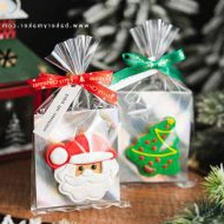snack: (23, 29, 140, 220), (100, 13, 198, 187)
